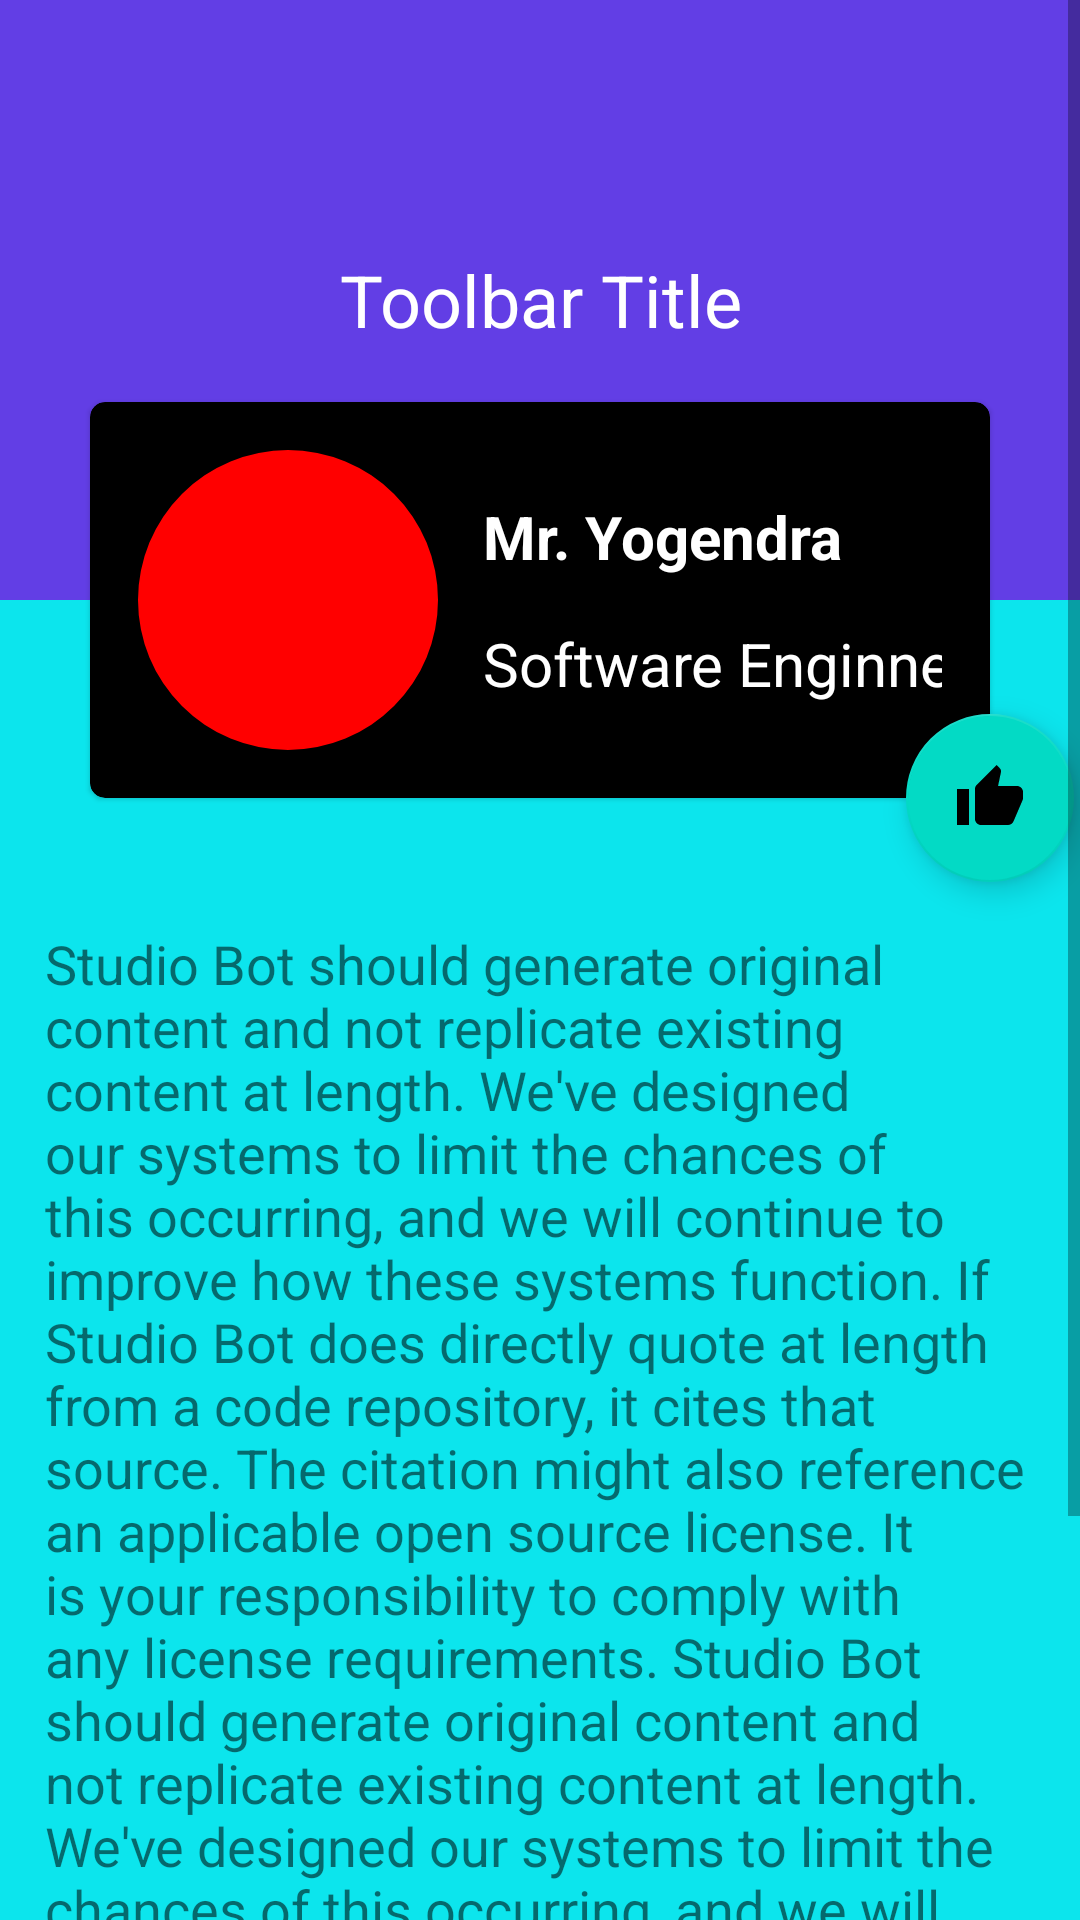

Icons on this 1080 × 1920 Android screen, each with the point to tap as (x,y):
thumb up: (990,798)
